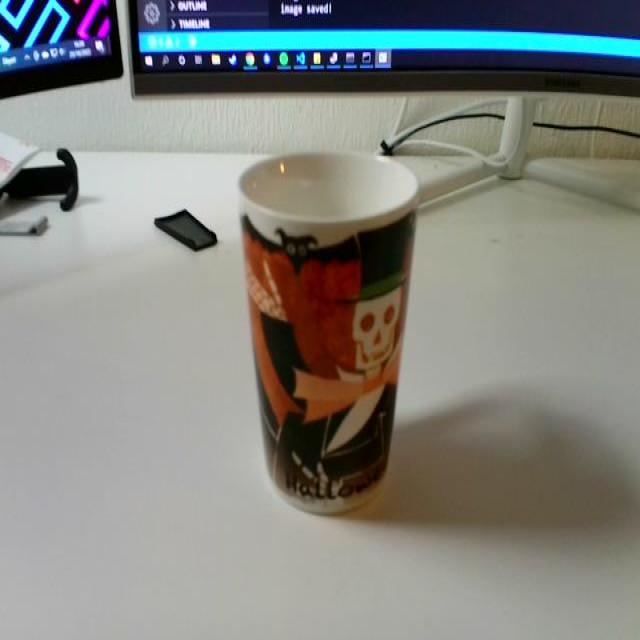cup: (224, 115, 435, 543)
